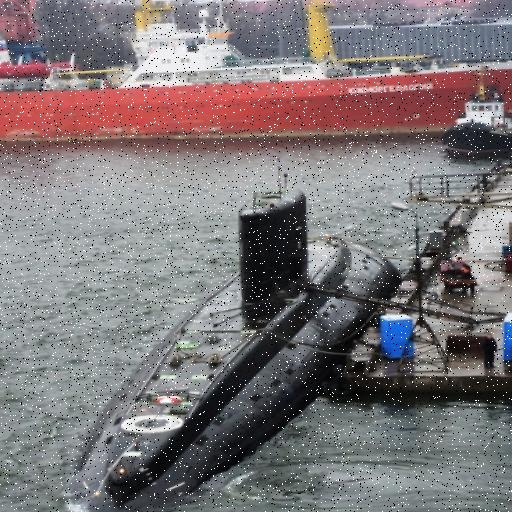submarine: (65, 174, 409, 512)
